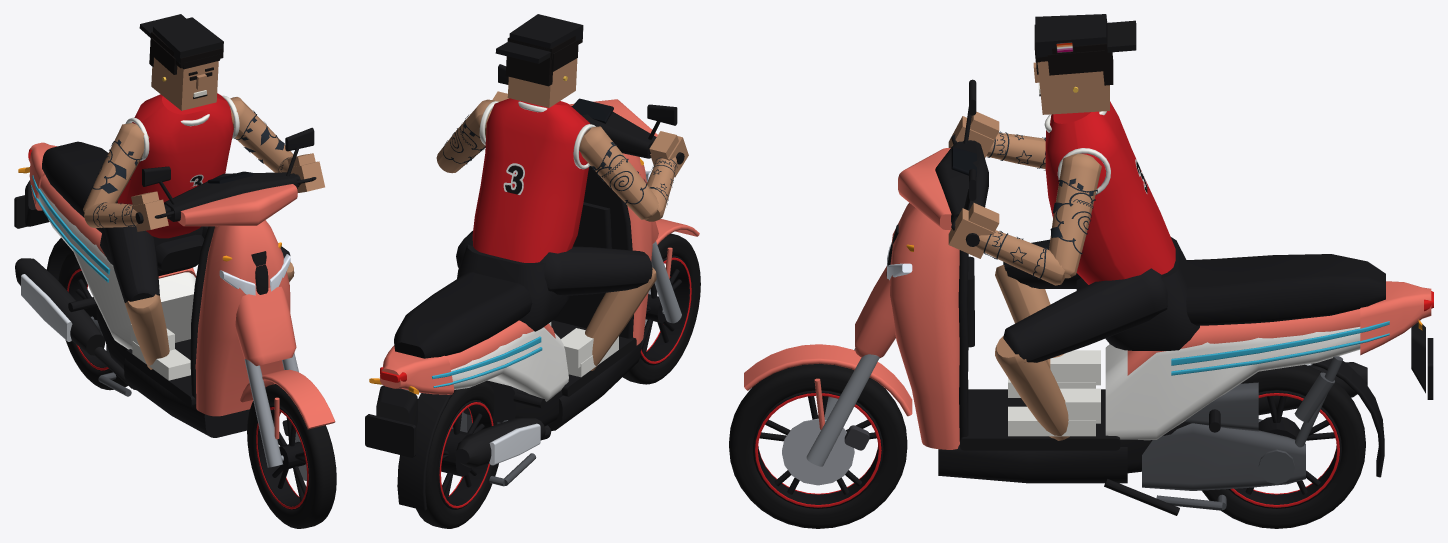
File: mio.glb
3 views of the same model, side by side, from view 1: azimuth 30°, elevation 25°; view 2: azimuth 150°, elevation 25°; view 3: azimuth 270°, elevation 25° (orthographic). The views are drawn at different scales.
Visible parts, largest first — view 1: Body, BlackTrim, Torso, Fender, Spin (×2), SidePanels, Saddle, Rim (×2), Leg_R, CowlFront, Exhaust, Cowl (+20 smaller); view 2: BlackTrim, Torso, Saddle, Spin (×2), Rim (×2), Body, Leg_R, SidePanels, Pelvis, Arm_R, Leg_R_Lower, Hat (+20 smaller); view 3: Body, Spin (×2), BlackTrim, Engine, Saddle, Torso, SidePanels, Leg_L, Rim (×2), Fender, Arm_L, Pelvis (+19 smaller).
Part boxes in pixels (<box>): Body: <box>28,142,290,416</box>; BlackTrim: <box>14,180,268,437</box>; Torso: <box>117,93,233,238</box>; Fender: <box>235,286,335,439</box>; Spin (×2): <box>58,250,336,528</box>; SidePanels: <box>38,188,195,349</box>; Saddle: <box>42,141,204,271</box>; Rim (×2): <box>68,267,309,510</box>; Leg_R: <box>104,201,159,302</box>; CowlFront: <box>178,184,297,226</box>; Exhaust: <box>15,258,136,390</box>; Cowl: <box>135,172,316,223</box>; BlackTrim: <box>365,166,641,510</box>; Torso: <box>472,98,590,262</box>; Saddle: <box>394,272,532,358</box>; Spin (×2): <box>416,233,700,528</box>; Rim (×2): <box>438,255,689,509</box>; Body: <box>380,153,652,394</box>; Leg_R: <box>540,246,652,295</box>; SidePanels: <box>451,327,568,401</box>; Pelvis: <box>457,244,569,331</box>; Arm_R: <box>579,126,658,219</box>; Leg_R_Lower: <box>585,267,656,370</box>; Hat: <box>495,14,583,63</box>; Body: <box>889,203,1431,449</box>; Spin (×2): <box>729,363,1365,528</box>; BlackTrim: <box>886,224,1433,515</box>; Engine: <box>1142,356,1342,510</box>; Saddle: <box>1076,254,1385,325</box>; Torso: <box>1045,101,1175,284</box>; SidePanels: <box>1105,327,1360,440</box>; Leg_L: <box>1003,268,1167,362</box>; Rim (×2): <box>753,390,1341,508</box>; Fender: <box>744,266,912,429</box>; Arm_L: <box>1049,153,1101,278</box>; Pelvis: <box>1105,237,1199,350</box>.
Size of the model in its own units: 0.8272 by 1.52 by 1.94.
Materials: 31 (3 with a texture image).
